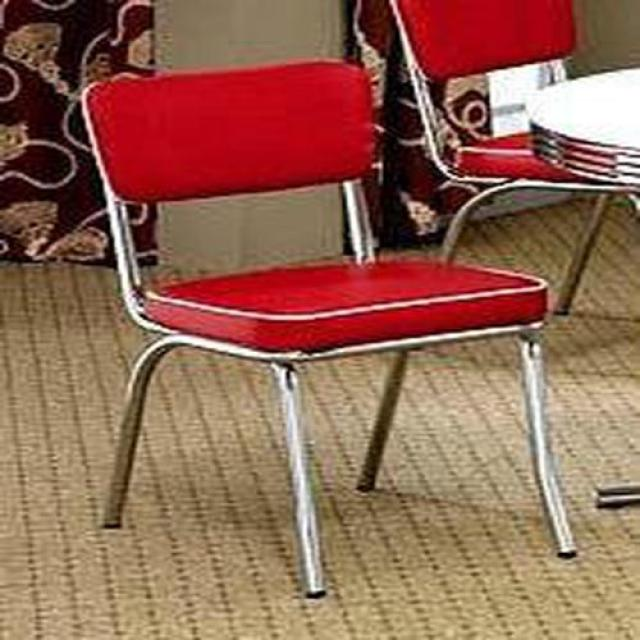chair: (82, 60, 579, 602)
